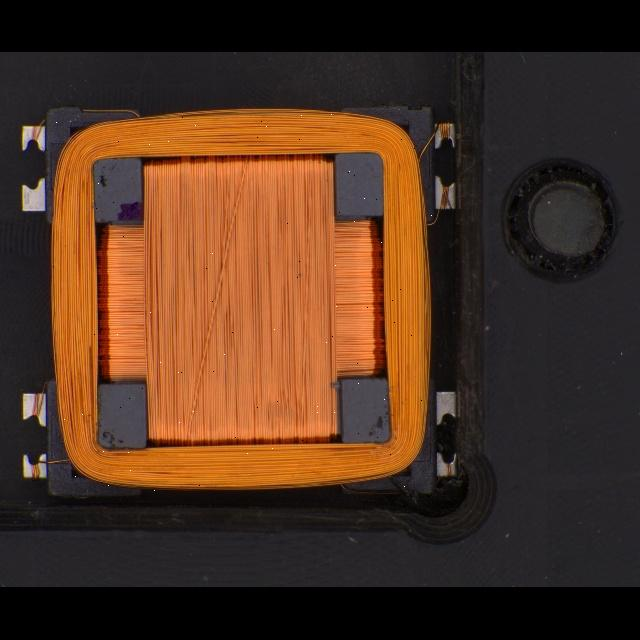Winding_Z: (47, 106, 433, 492)
